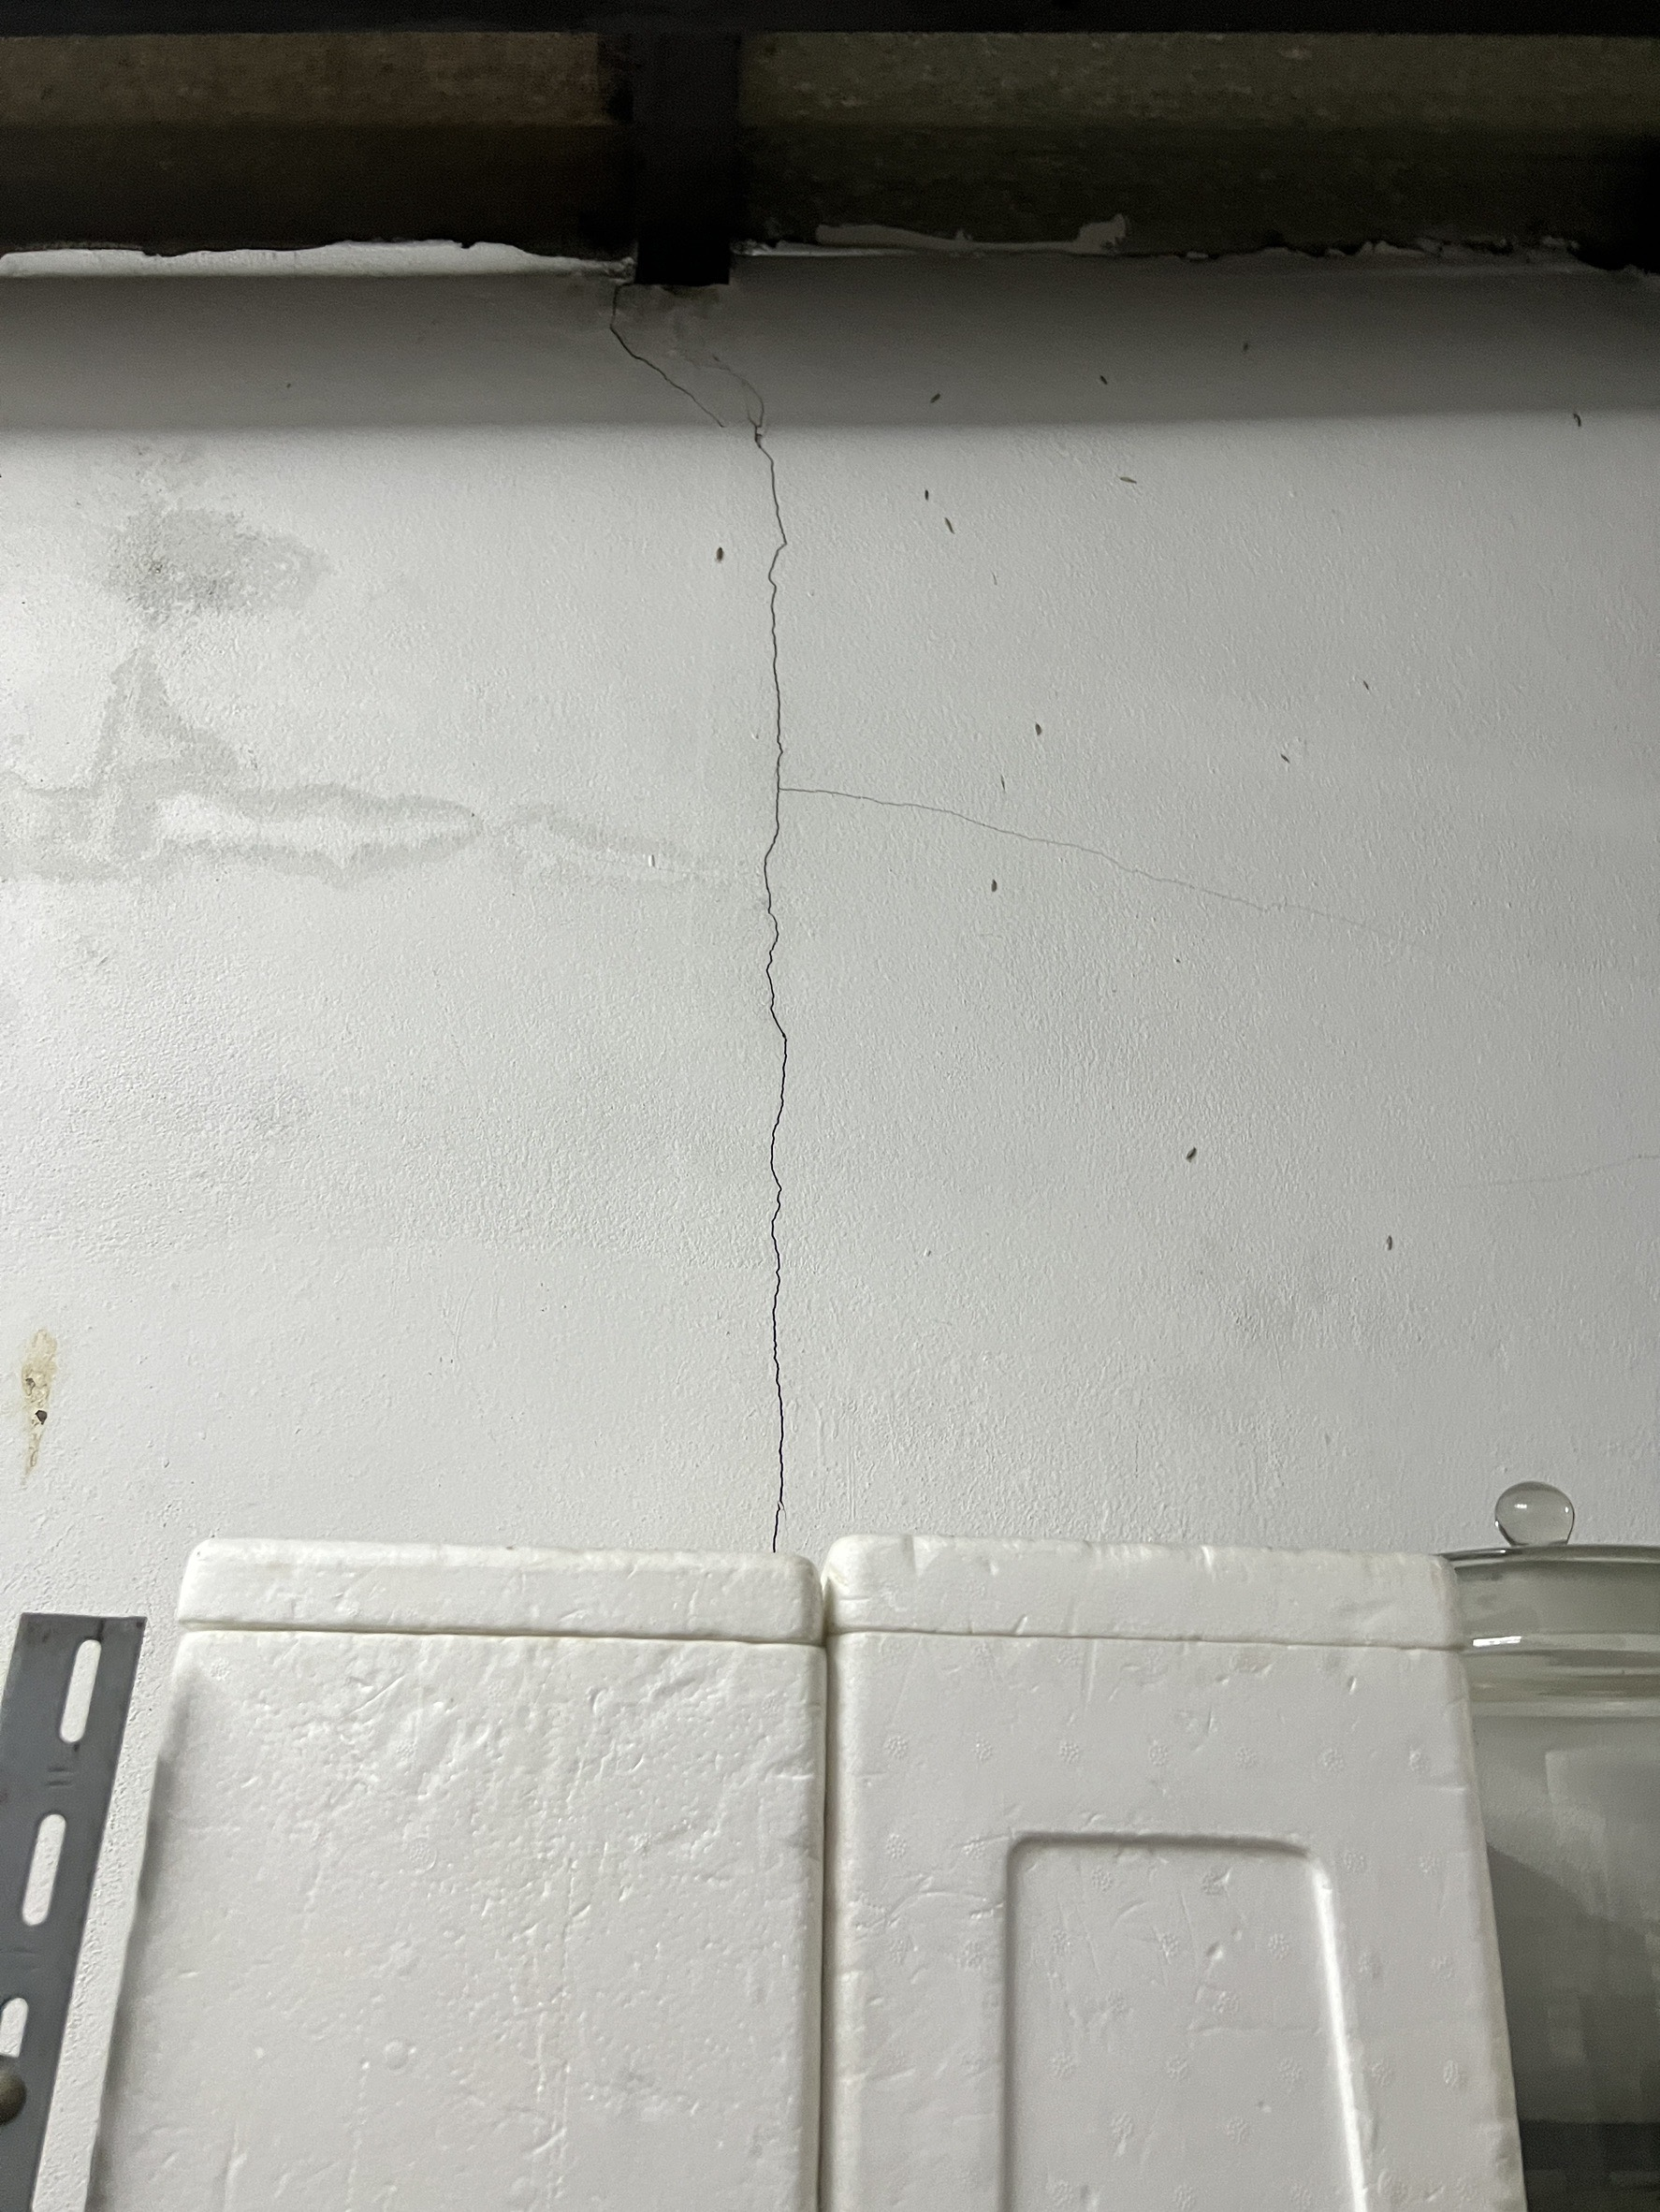Low: (589, 288, 1259, 1567)
